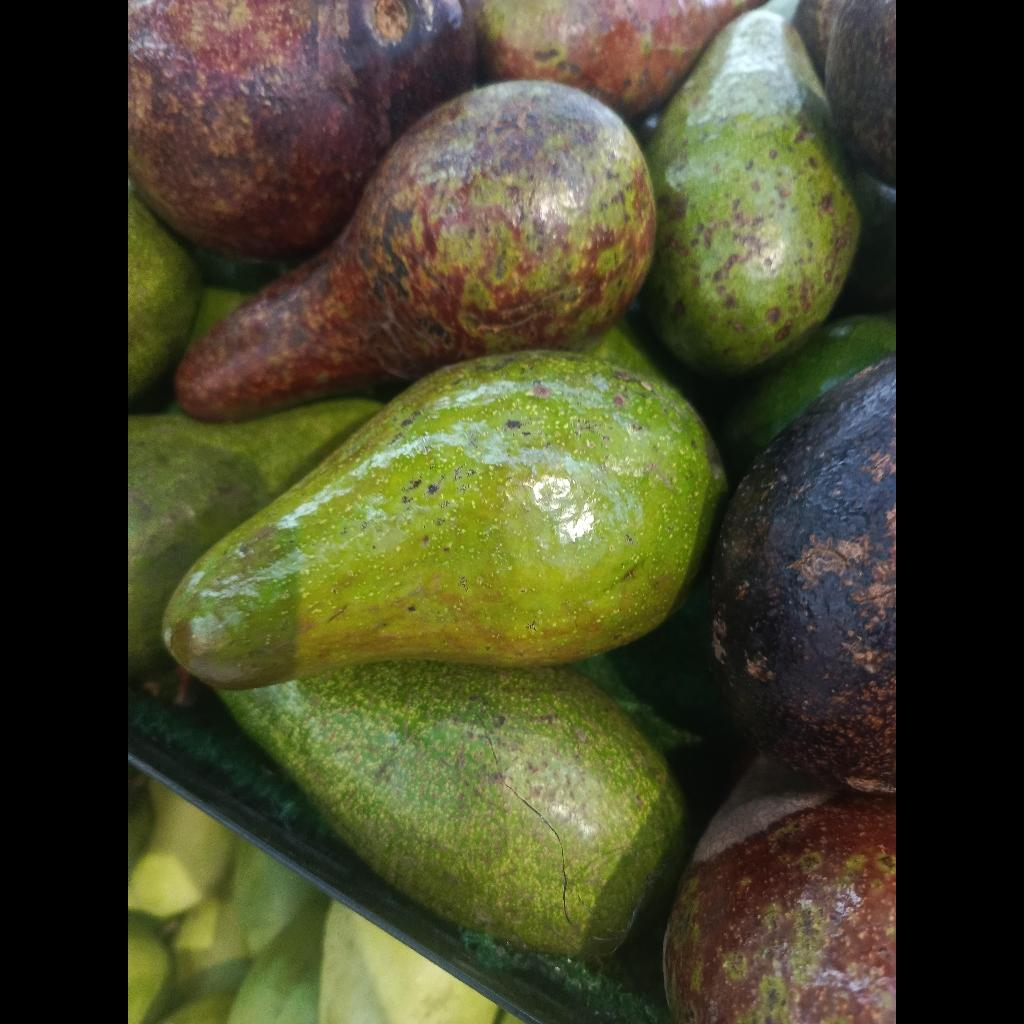healthy: (163, 351, 726, 689), (220, 661, 684, 957)
scab: (176, 81, 655, 420), (128, 0, 474, 260), (709, 352, 896, 792), (641, 7, 859, 377), (664, 758, 896, 1024)
